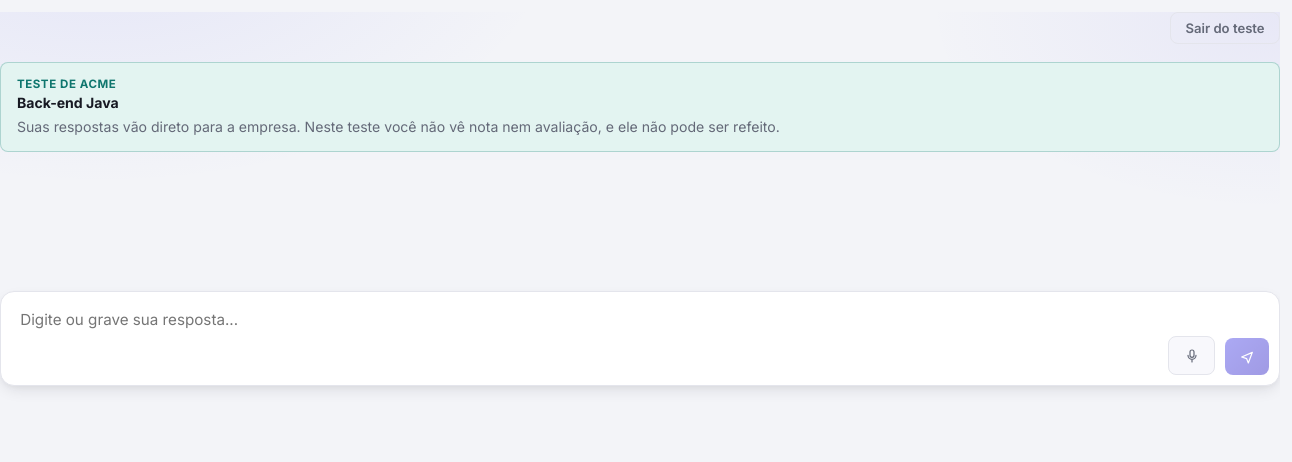
Test: InterviewChat em teste de empresa (origem CONVITE) › a saída avisa que o teste não pode ser refeito
This screenshot has width=1292, height=462.
Click the button "Sair do teste" at (1225, 28), box top-left (1170, 12), bottom-right (1280, 44)
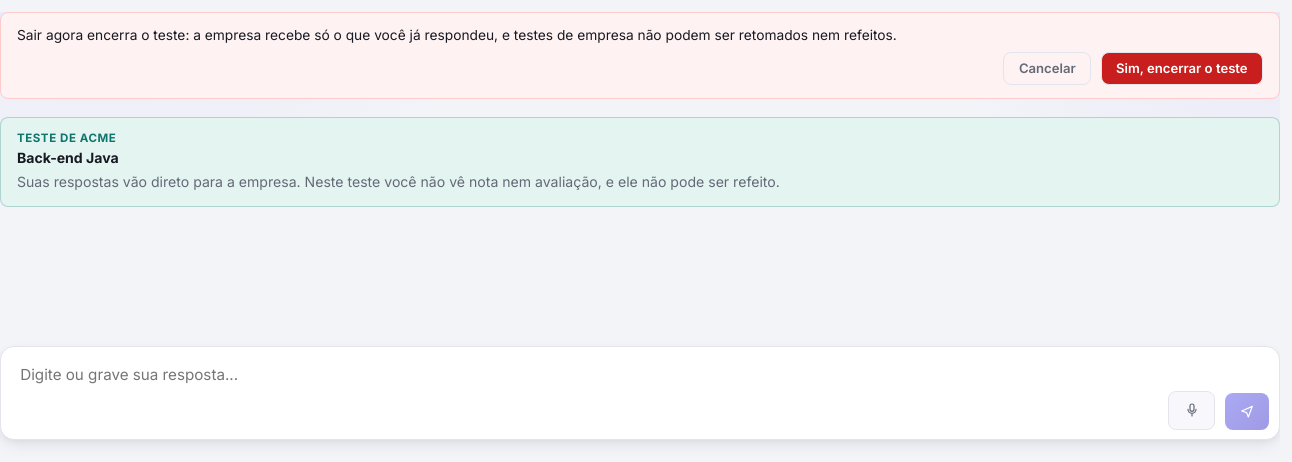
Expected: the text "não podem ser retomados nem refeitos" is shown, top-left (17, 27), bottom-right (897, 43)
